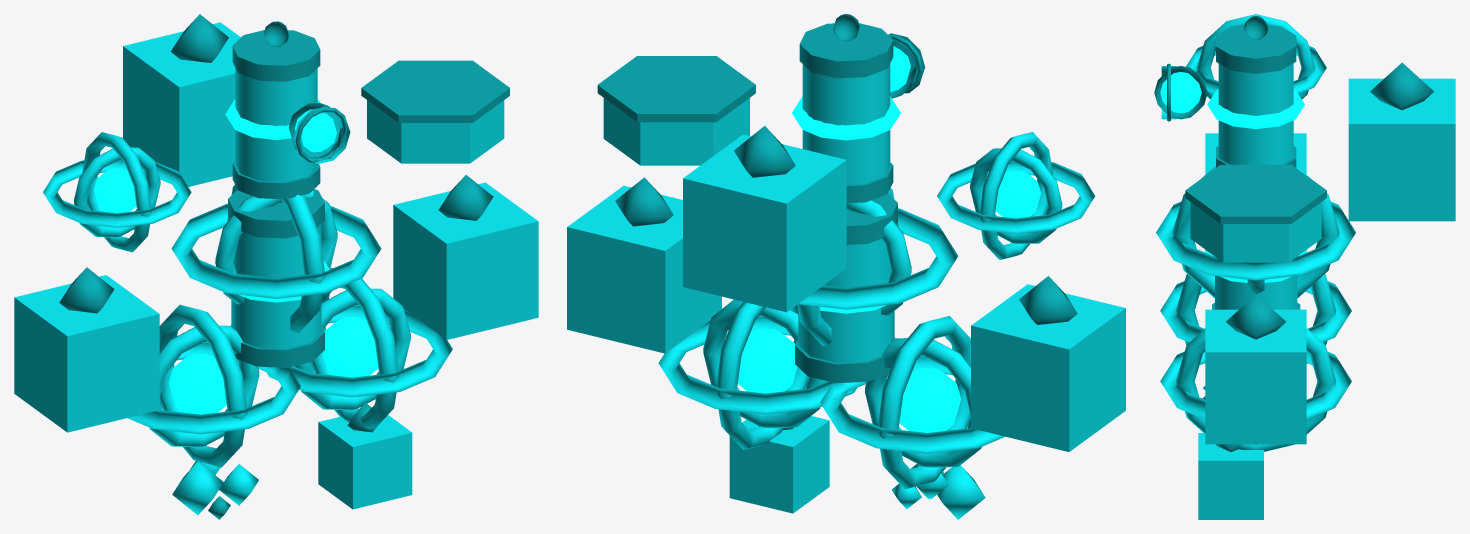
Rendered from golem_056.glb.
The picture shows the model from 3 angles, left to right: view 1: azimuth 30°, elevation 25°; view 2: azimuth 150°, elevation 25°; view 3: azimuth 270°, elevation 25°; orthographic projection. The views are drawn at different scales.
Parts seen in each view (by area): view 1: Body, Detail, Glow; view 2: Body, Detail, Glow; view 3: Body, Detail, Glow.
Part boxes in pixels (x1,y1,x2,y2): Body: [14, 22, 538, 514]; Detail: [59, 14, 509, 519]; Glow: [93, 99, 378, 414]; Body: [567, 33, 1125, 519]; Detail: [597, 14, 1077, 430]; Glow: [738, 46, 1041, 432]; Body: [1156, 14, 1455, 519]; Detail: [1154, 16, 1433, 451]; Glow: [1160, 72, 1306, 282].
Bounding box in the file's own units: 1.3 × 1.26 × 0.759.
